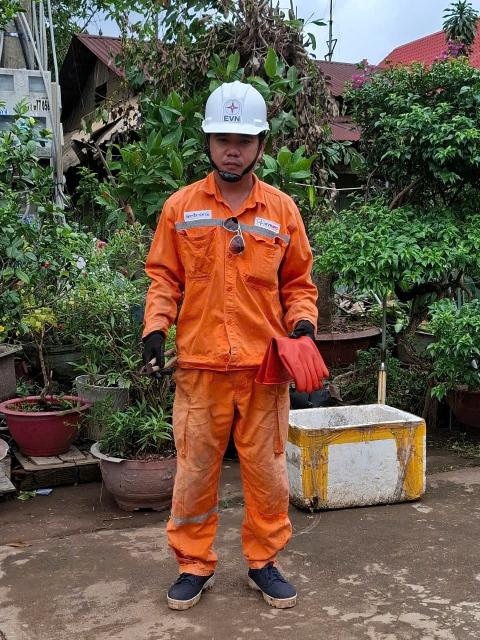gloves: (250, 331, 328, 392), (132, 323, 181, 383), (291, 324, 328, 392)
helmet: (201, 71, 289, 147)
shoes: (243, 546, 308, 609), (164, 550, 235, 606)
